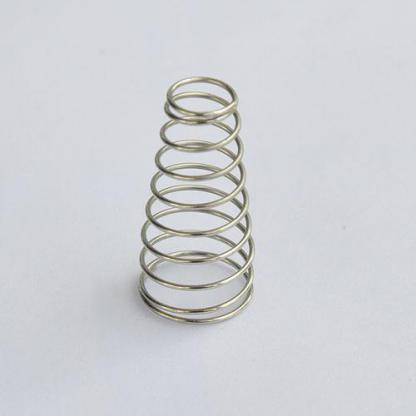FOD: (136, 74, 258, 326)
